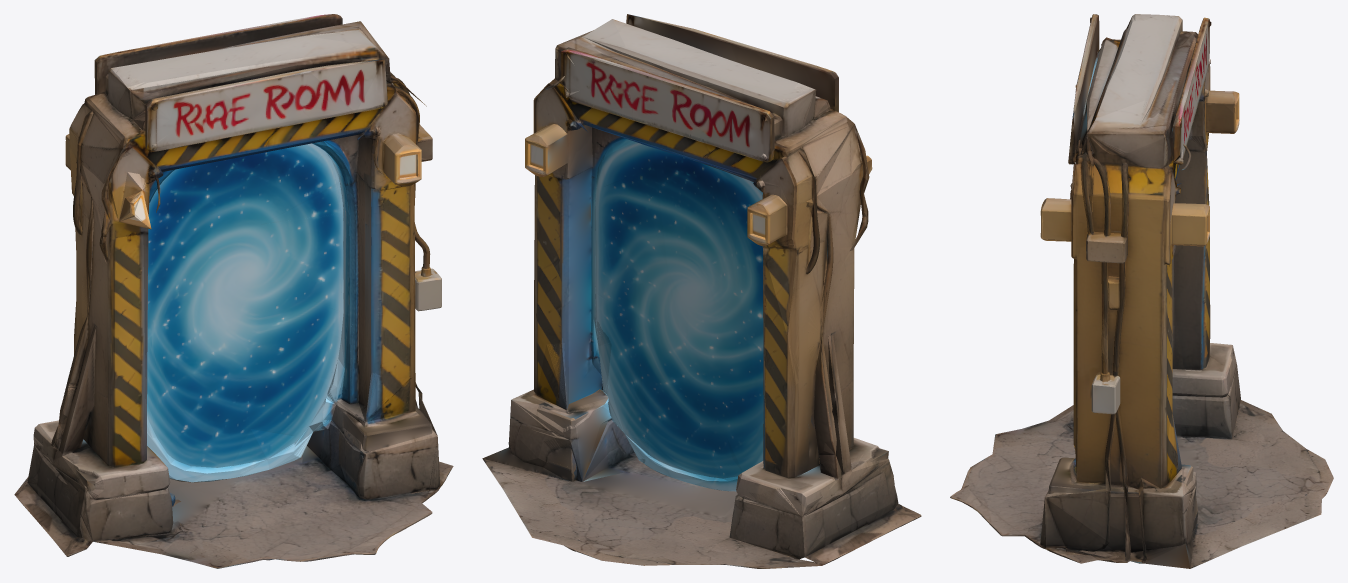
3 views of the same model, side by side, from view 1: azimuth 30°, elevation 25°; view 2: azimuth 150°, elevation 25°; view 3: azimuth 270°, elevation 25° (orthographic). The views are drawn at different scales.
Visible parts, largest first — view 1: texture_pbr_v128; view 2: texture_pbr_v128; view 3: texture_pbr_v128.
Part boxes in pixels (bbox=[...]): texture_pbr_v128: bbox=[14, 14, 453, 568]; texture_pbr_v128: bbox=[482, 14, 921, 568]; texture_pbr_v128: bbox=[950, 14, 1333, 568].
Bounding box in the file's own units: 0.8217 × 0.8664 × 0.7253.
1 material, 1 textured.
